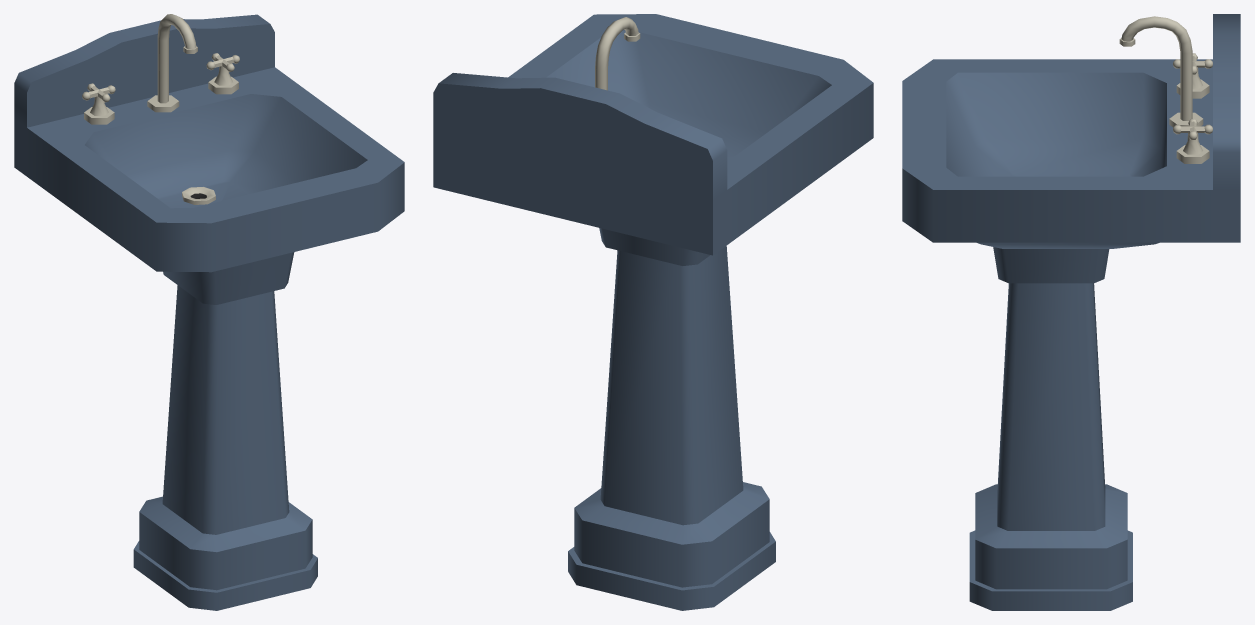
Rendered from BathroomSink_01.fbx.
3 views of the same model, side by side, from view 1: azimuth 30°, elevation 25°; view 2: azimuth 150°, elevation 25°; view 3: azimuth 270°, elevation 25° (orthographic). The views are drawn at different scales.
Parts seen in each view (by area): view 1: BathroomSink_01; view 2: BathroomSink_01; view 3: BathroomSink_01.
Part boxes in pixels (box(x1,y1,x2,y2)): BathroomSink_01: box(14, 14, 404, 610); BathroomSink_01: box(433, 14, 873, 610); BathroomSink_01: box(902, 14, 1240, 610).
Size of the model in its own units: 0.6209 by 1.24 by 0.6796.
